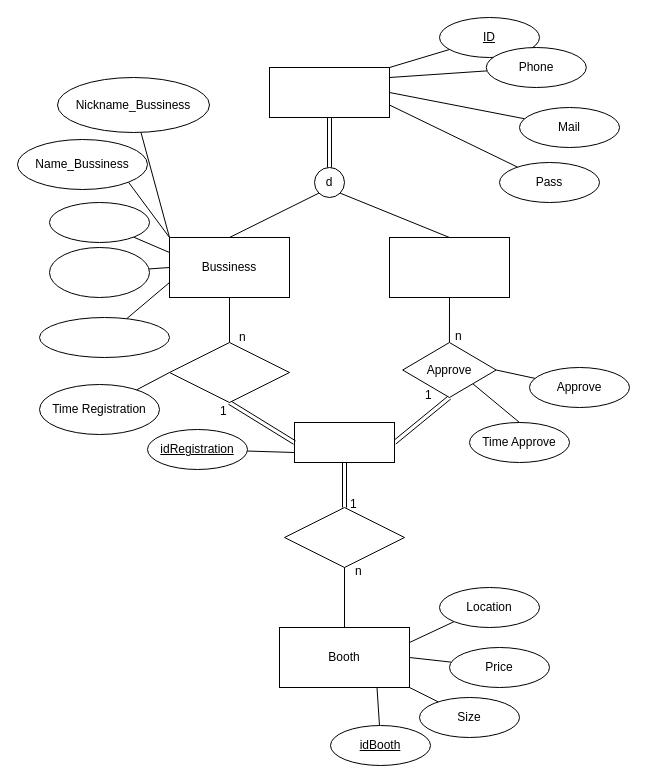
Some shapes in this 647 by 783 pixel diagram are drawn without their labels. The centre of each missing label's shape, as x and y in pixels:
Acount: the point at 329,92
Address: the point at 99,222
Admin: the point at 449,267
Containing: the point at 344,537
Mail representative: the point at 104,337
Phone representative: the point at 99,272
register: the point at 229,372
Registration: the point at 344,442
